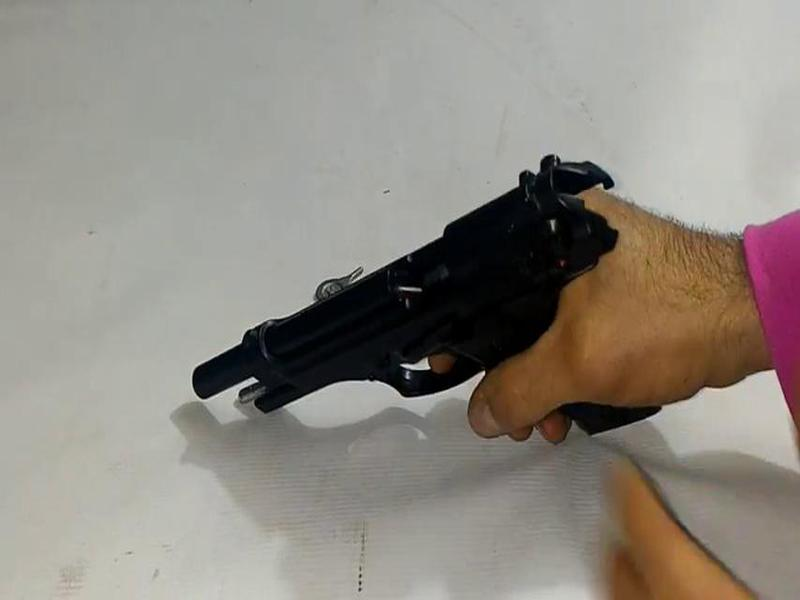Pistola: (164, 151, 723, 471)
